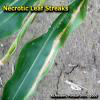Corn leaf blight: (10, 12, 84, 92)
